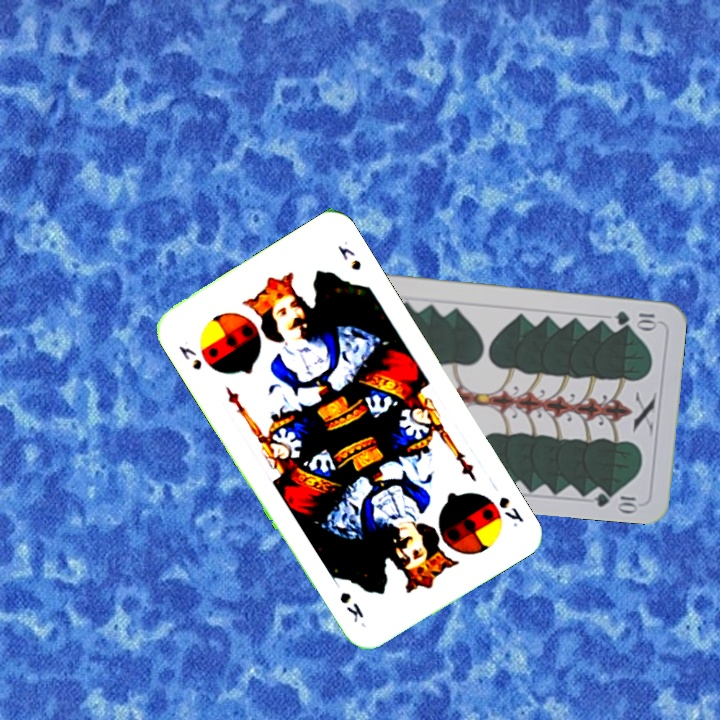G10: (611, 307, 660, 330)
SK: (495, 492, 527, 530), (175, 341, 205, 373)
